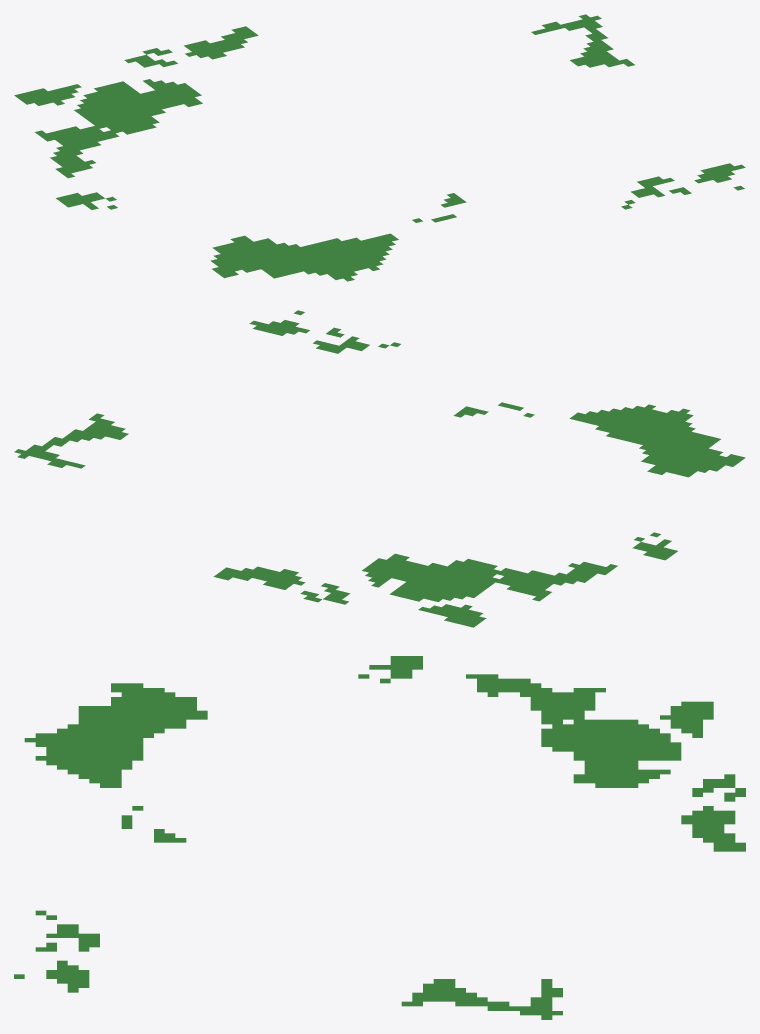
The model's file is Isl-hilly4-TreesArea.fbx.
3 renders of one model, top to bottom at view 1: azimuth 30°, elevation 25°; view 2: azimuth 150°, elevation 25°; view 3: azimuth 270°, elevation 25°, orthographic. The views are drawn at different scales.
Visible parts, largest first — view 1: Isl-hilly4-TreesArea; view 2: Isl-hilly4-TreesArea; view 3: Isl-hilly4-TreesArea.
Boxes of the visible parts, x1,y1,x2,y2 form: Isl-hilly4-TreesArea: [14, 14, 745, 281]; Isl-hilly4-TreesArea: [14, 310, 745, 627]; Isl-hilly4-TreesArea: [14, 656, 745, 1019].
Bounding box in the file's own units: 80 × 0 × 68.
